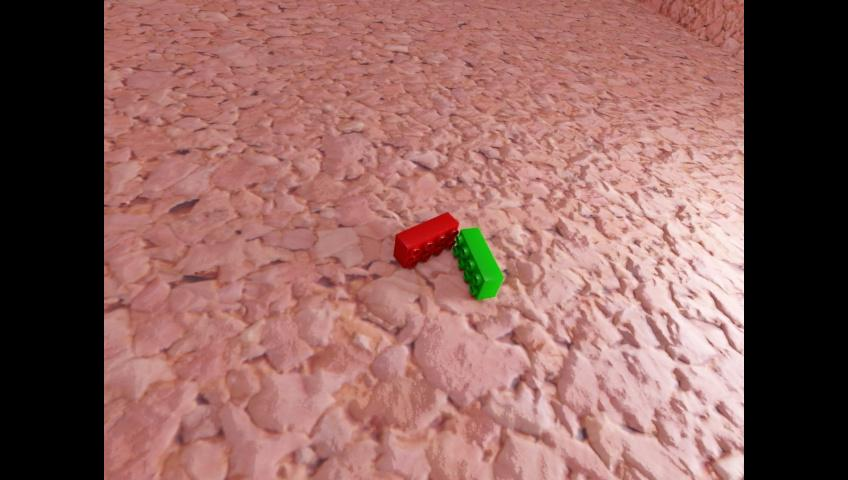4x2_green: (452, 226, 503, 300)
4x2_red: (393, 211, 458, 268)
